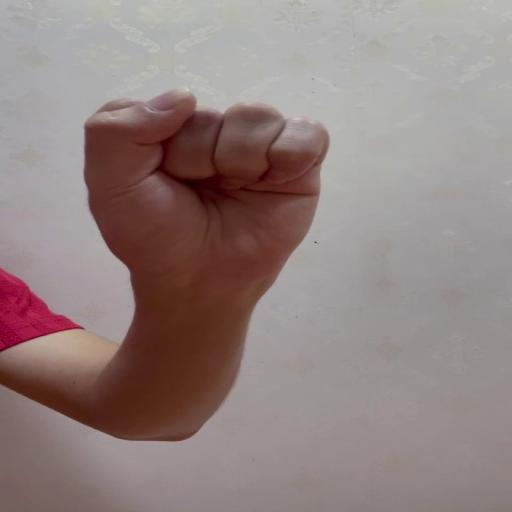fist: (82, 84, 333, 280)
